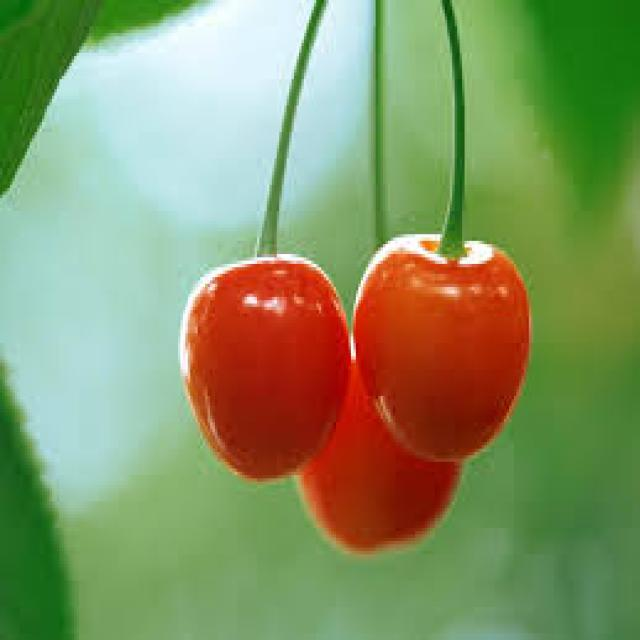biodegradable: (351, 224, 531, 452), (178, 251, 353, 482), (292, 330, 462, 551)
